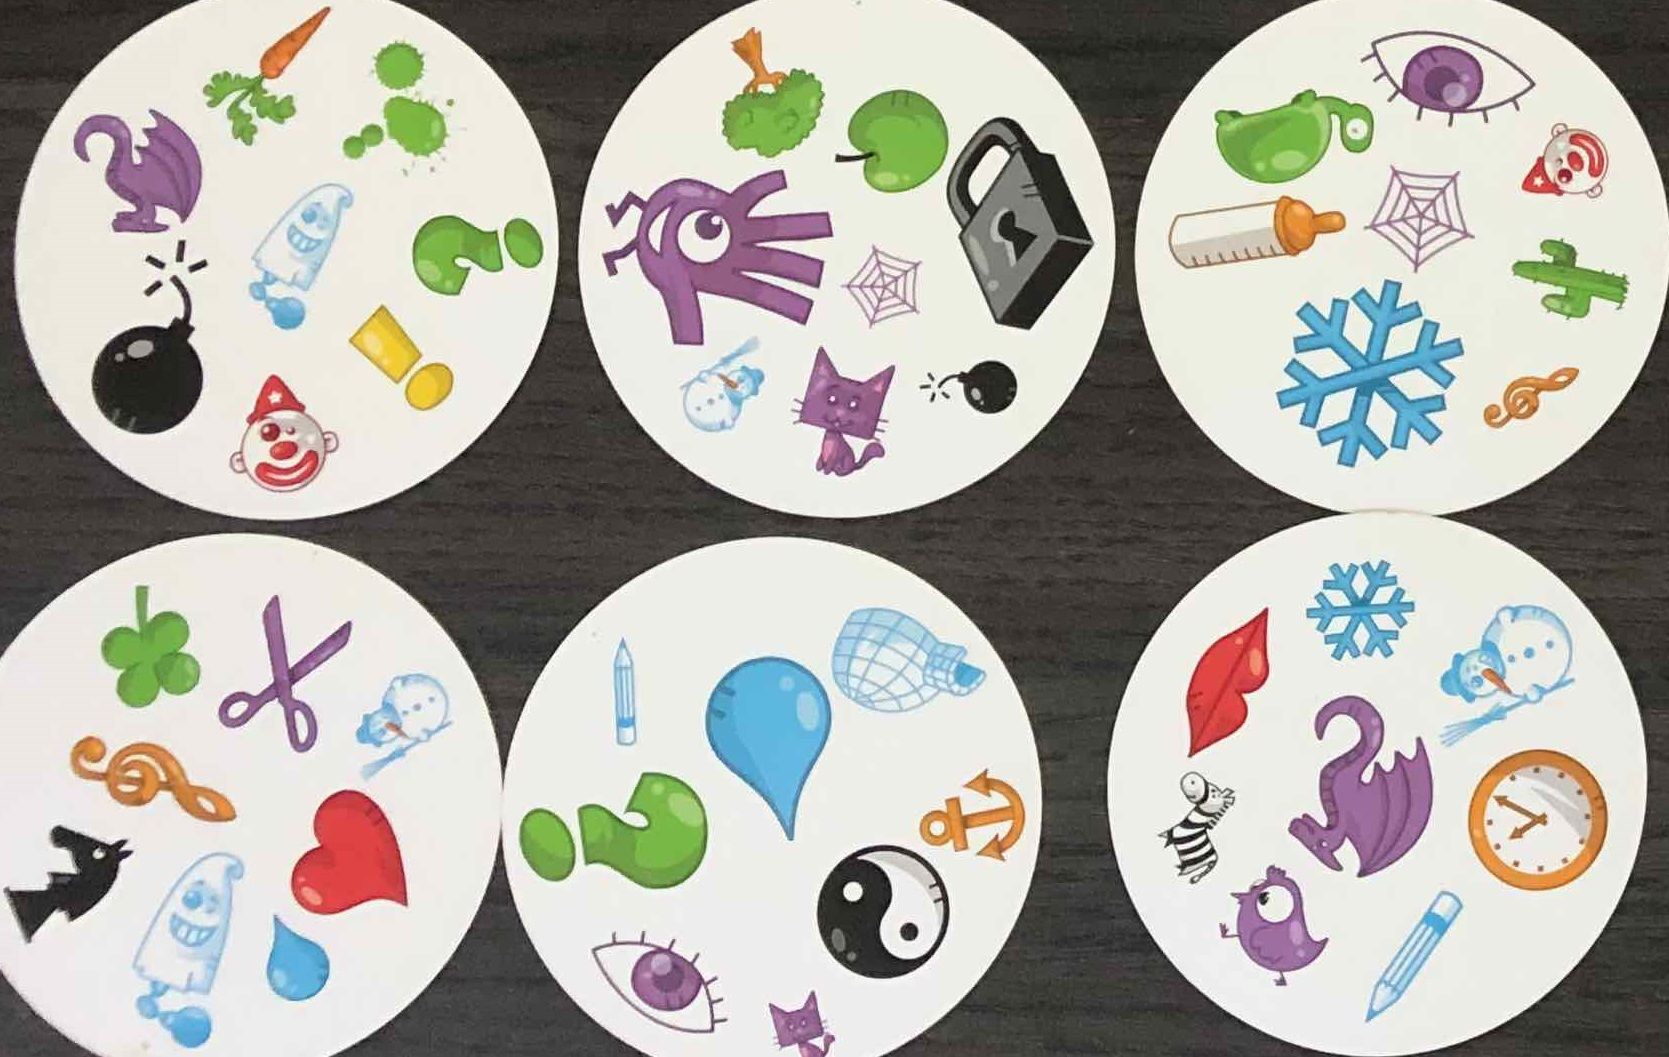ancre: (907, 765, 1039, 865)
arbre: (698, 24, 826, 167)
biberon: (1153, 191, 1347, 280)
bombe: (90, 240, 213, 432), (911, 356, 1024, 422)
bonhomme_neige: (1427, 598, 1581, 731), (350, 656, 463, 782), (674, 334, 772, 438)
bouche: (1176, 605, 1275, 761)
cactus: (1501, 229, 1633, 332)
cadenas: (939, 112, 1098, 332)
carotte: (190, 5, 337, 151)
chat: (783, 344, 892, 480), (758, 980, 850, 1057)
cheval: (1, 823, 134, 945)
ciseau: (208, 592, 354, 752)
cle: (63, 731, 241, 832)
clown: (220, 373, 345, 495), (1519, 118, 1620, 206)
coeur: (282, 785, 429, 924)
crayon: (1358, 883, 1466, 1027), (594, 636, 640, 755)
dooble: (595, 165, 841, 348)
dragon: (1282, 688, 1445, 885), (73, 100, 207, 237)
fantome: (127, 845, 251, 1051), (241, 180, 354, 338)
flocon: (1272, 282, 1477, 473), (1299, 556, 1415, 664)
goutte: (698, 652, 834, 834), (262, 917, 356, 1011)
horloge: (1461, 737, 1611, 903)
igloo: (822, 603, 990, 710)
note: (1479, 361, 1583, 431)
oeuil: (1360, 19, 1535, 126), (588, 927, 734, 1038)
oiseau: (1210, 858, 1333, 989)
point_exclamation: (335, 304, 467, 417)
point_interrogation: (506, 778, 717, 903), (401, 209, 552, 307)
pomme: (824, 84, 949, 197)
tache: (345, 36, 453, 169)
toile: (1358, 159, 1482, 279), (836, 242, 923, 331)
tortue: (1196, 81, 1379, 189)
trefle: (95, 575, 204, 713)
zebre: (1145, 768, 1244, 896)
